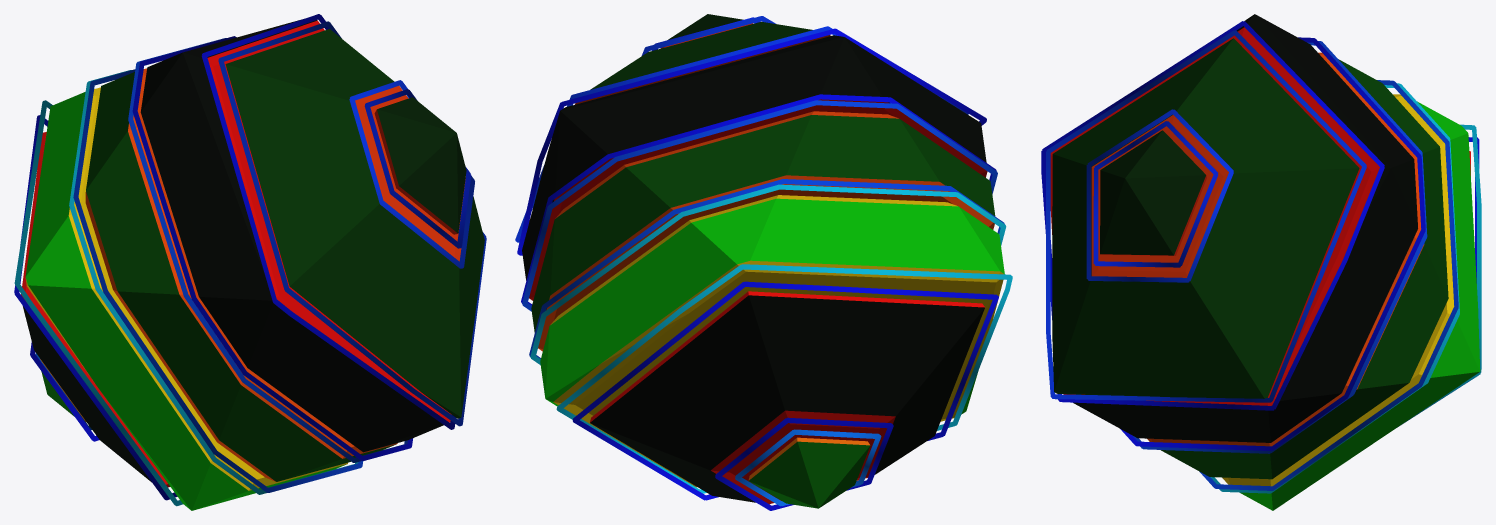
File: FX_Mesh_Icosahedron_A_Hirez.fbx
The picture shows the model from 3 angles, left to right: view 1: azimuth 30°, elevation 25°; view 2: azimuth 150°, elevation 25°; view 3: azimuth 270°, elevation 25°; orthographic projection. The views are drawn at different scales.
Visible parts, largest first — view 1: Icosahedron_A_Hirez; view 2: Icosahedron_A_Hirez; view 3: Icosahedron_A_Hirez.
Boxes of the visible parts, x1=… form: Icosahedron_A_Hirez: x1=14, y1=14, x2=486, y2=510; Icosahedron_A_Hirez: x1=515, y1=14, x2=1012, y2=510; Icosahedron_A_Hirez: x1=1041, y1=14, x2=1481, y2=510.
Size of the model in its own units: 1312 by 1223 by 1134.
